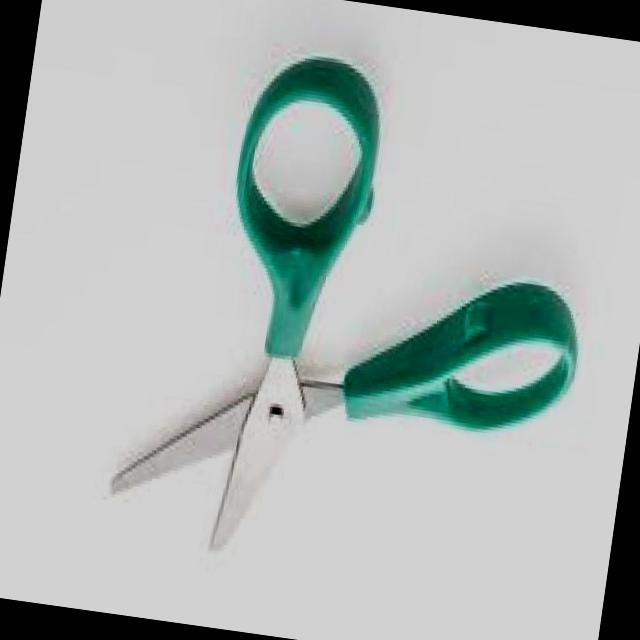Scissors: (75, 23, 635, 618)
